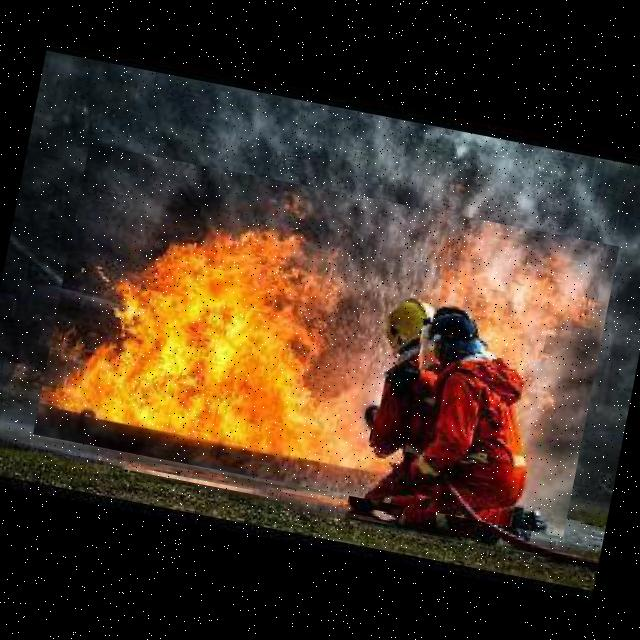fire: (32, 143, 620, 538)
